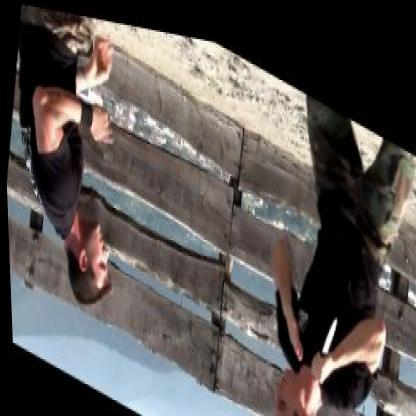knife: (302, 284, 341, 386)
